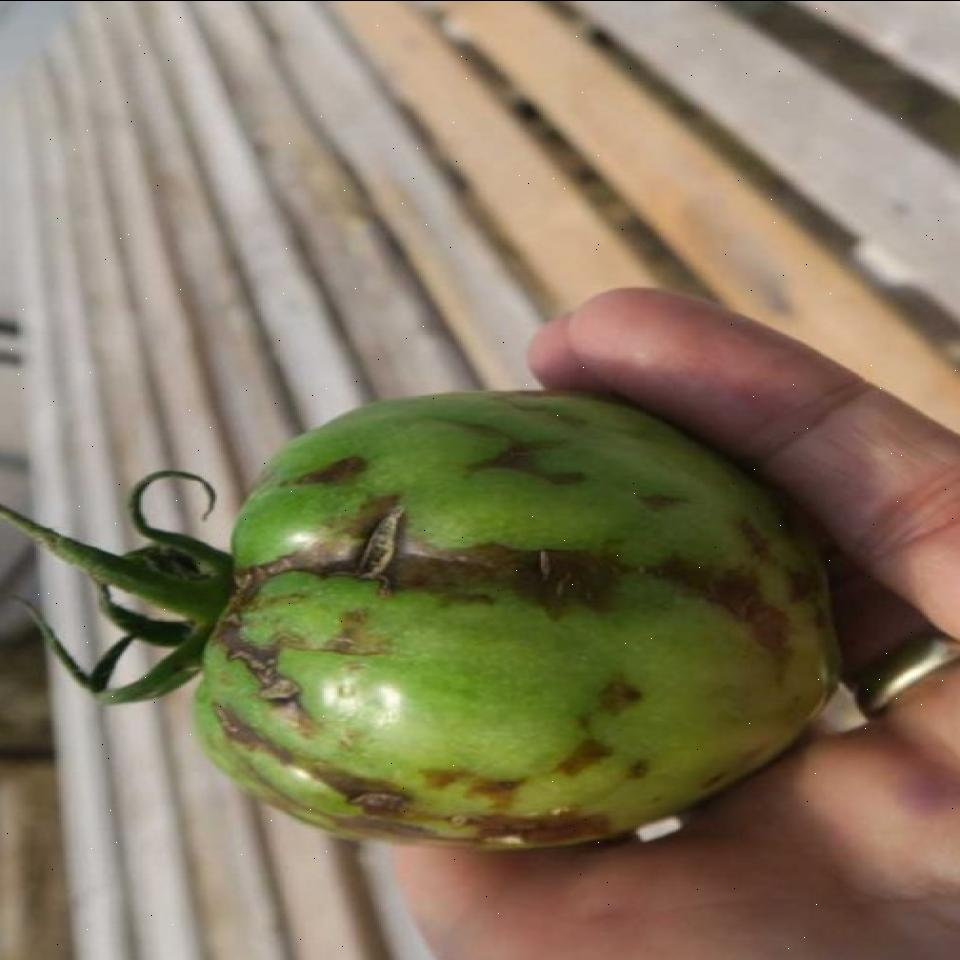Spotted wilt Virus: (196, 390, 836, 843)
